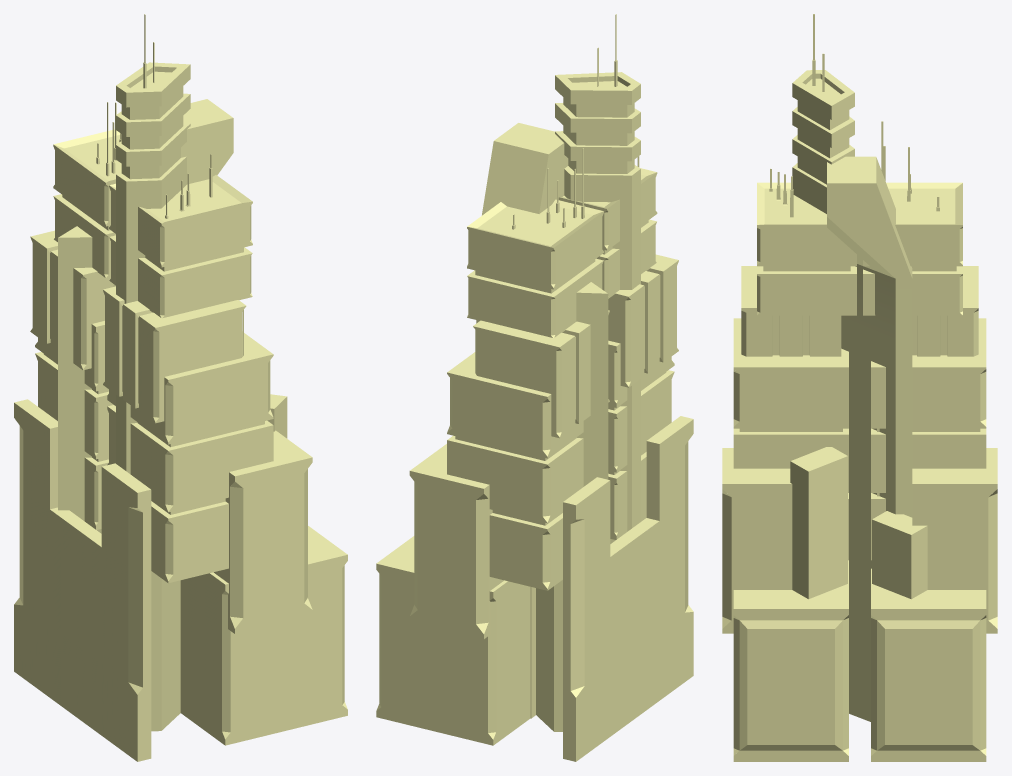
The model's file is MangaKa Props - F_S_ScifiBuilding_38.glb.
The picture shows the model from 3 angles, left to right: view 1: azimuth 30°, elevation 25°; view 2: azimuth 150°, elevation 25°; view 3: azimuth 270°, elevation 25°; orthographic projection. The views are drawn at different scales.
Visible parts, largest first — view 1: F_S_ScifiBuilding_38_blueScreen, F_S_ScifiBuilding_38003_blueScreen, F_S_ScifiBuilding_38002_blueScreen, F_S_ScifiBuilding_38001_blueScreen; view 2: F_S_ScifiBuilding_38_blueScreen, F_S_ScifiBuilding_38003_blueScreen, F_S_ScifiBuilding_38002_blueScreen; view 3: F_S_ScifiBuilding_38_blueScreen, F_S_ScifiBuilding_38003_blueScreen, F_S_ScifiBuilding_38002_blueScreen, F_S_ScifiBuilding_38001_blueScreen.
Part boxes in pixels (x1,y1,x2,y2): F_S_ScifiBuilding_38_blueScreen: (14, 129, 347, 761); F_S_ScifiBuilding_38003_blueScreen: (44, 62, 287, 731); F_S_ScifiBuilding_38002_blueScreen: (14, 14, 347, 735); F_S_ScifiBuilding_38001_blueScreen: (96, 14, 212, 218); F_S_ScifiBuilding_38_blueScreen: (376, 168, 693, 761); F_S_ScifiBuilding_38003_blueScreen: (455, 72, 666, 731); F_S_ScifiBuilding_38002_blueScreen: (376, 14, 693, 736); F_S_ScifiBuilding_38_blueScreen: (722, 182, 997, 761); F_S_ScifiBuilding_38003_blueScreen: (739, 70, 980, 721); F_S_ScifiBuilding_38002_blueScreen: (722, 14, 997, 755); F_S_ScifiBuilding_38001_blueScreen: (769, 14, 939, 217).
Size of the model in its own units: 12.11 by 39.44 by 14.61.
